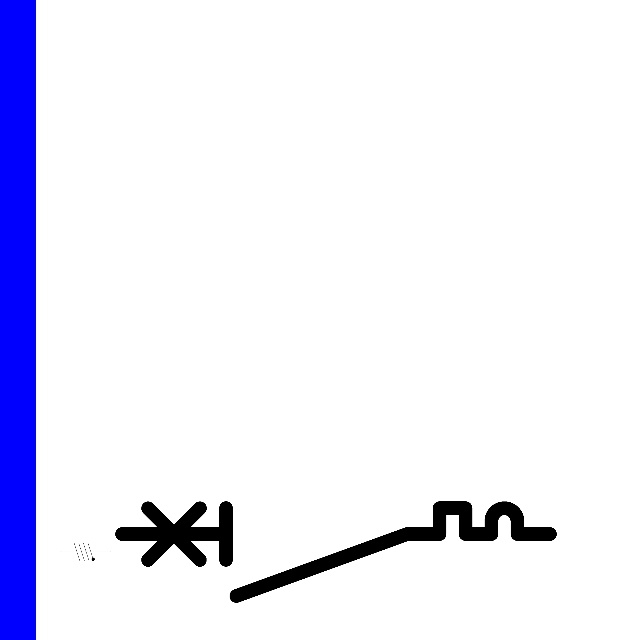interruptor_termomagnetico: (110, 497, 560, 607)
